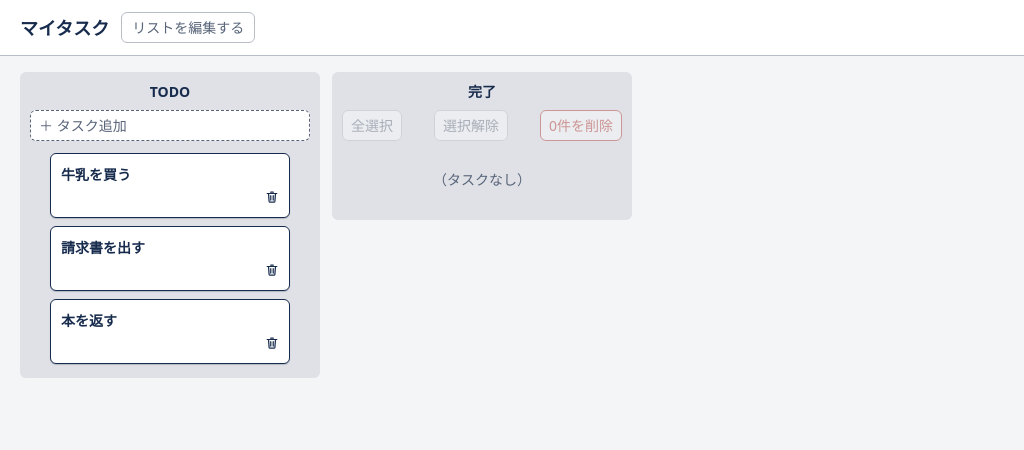
Test case: ホバーでの完了操作（F-22） › 移動に失敗したら、元の列の元の位置に戻る
expect the heading "牛乳を買う" is shown: met, box [61,165,131,184]
What coordinates should you click on to do the following:
click the 2nd checkbox labelled "請求書を出す"
I would click on:
 (170, 258)
Its box is [30,226,310,291].
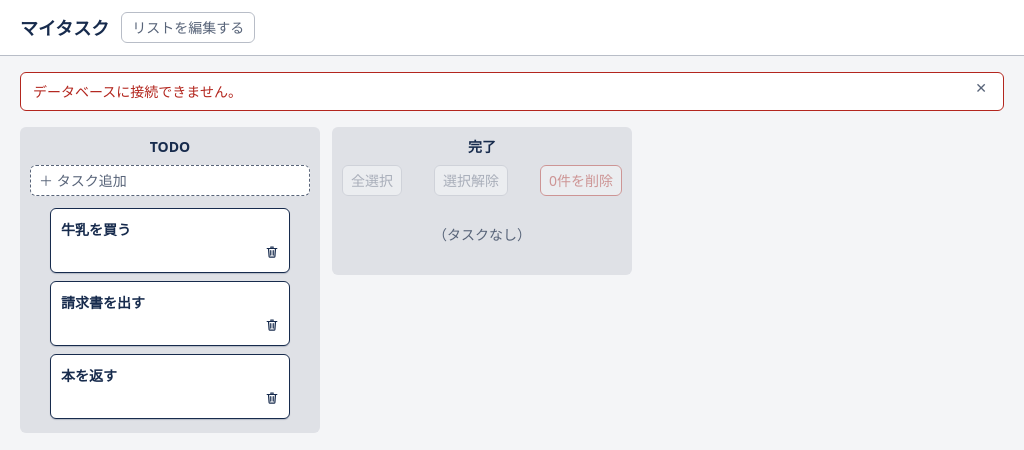
expect the message shows "データベースに接続できません。": met, box [33,82,242,101]
